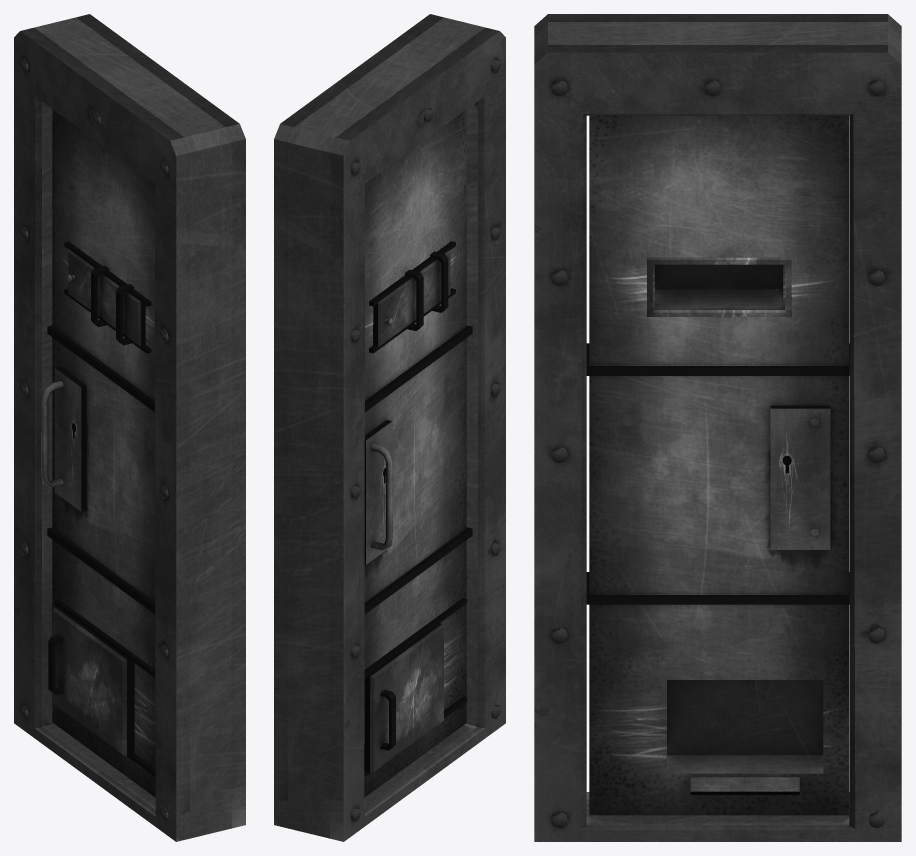
Rendered from door.FBX.
The picture shows the model from 3 angles, left to right: view 1: azimuth 30°, elevation 25°; view 2: azimuth 150°, elevation 25°; view 3: azimuth 270°, elevation 25°; orthographic projection. The views are drawn at different scales.
Parts seen in each view (by area): view 1: Door; view 2: Door; view 3: Door.
Part boxes in pixels (left/top/right/bottom): Door: left=14, top=14, right=245, bottom=841; Door: left=274, top=14, right=505, bottom=841; Door: left=534, top=14, right=901, bottom=841.
Bounding box in the file's own units: 16.7 × 132 × 55.73.
